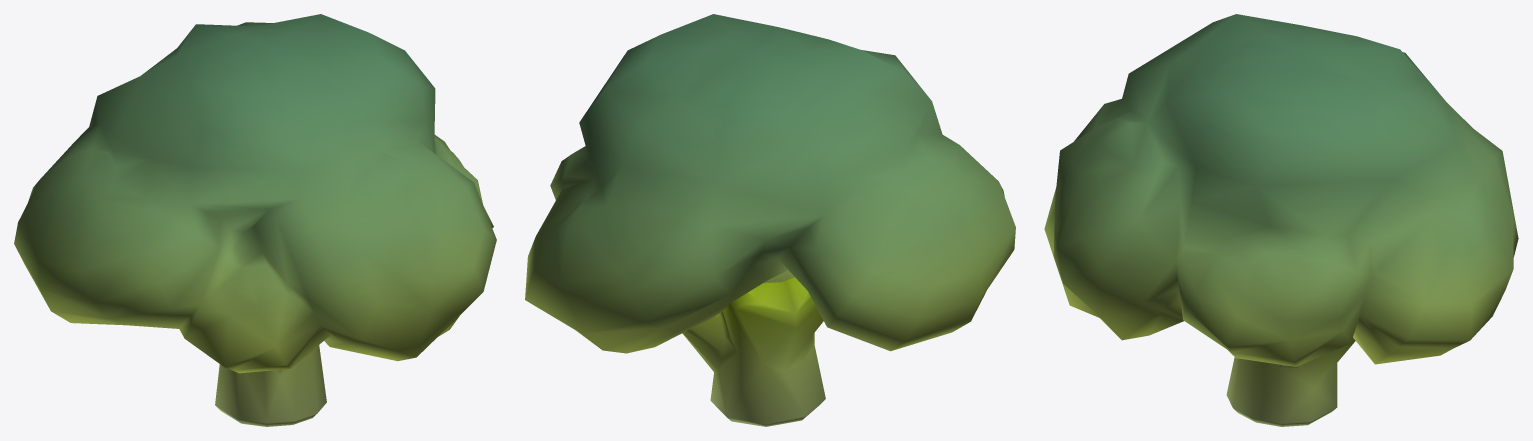
Rendered from Broccoli.fbx.
3 renders of one model, left to right at view 1: azimuth 30°, elevation 25°; view 2: azimuth 150°, elevation 25°; view 3: azimuth 270°, elevation 25°, orthographic.
Parts seen in each view (by area): view 1: Broccoli; view 2: Broccoli; view 3: Broccoli.
Boxes of the visible parts, box(x1,y1,x2,y2) form: Broccoli: box(14, 14, 496, 426); Broccoli: box(525, 14, 1015, 426); Broccoli: box(1044, 14, 1518, 426).
Size of the model in its own units: 1.95 by 1.59 by 1.9.
